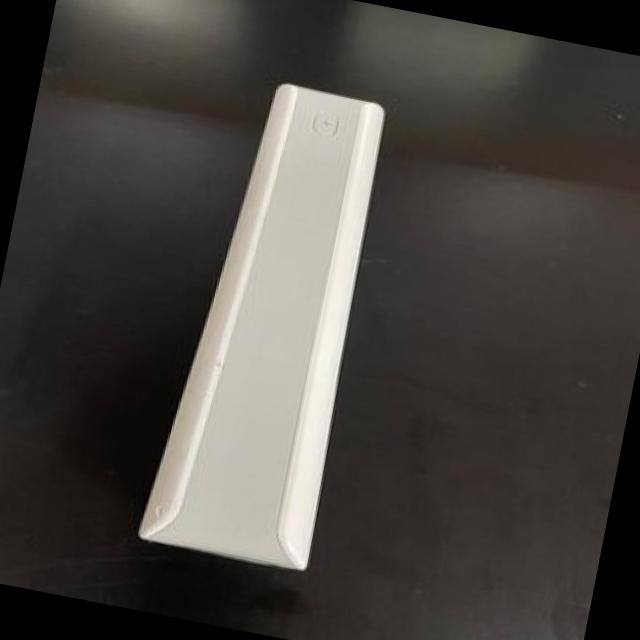power_bank: (130, 70, 433, 584)
